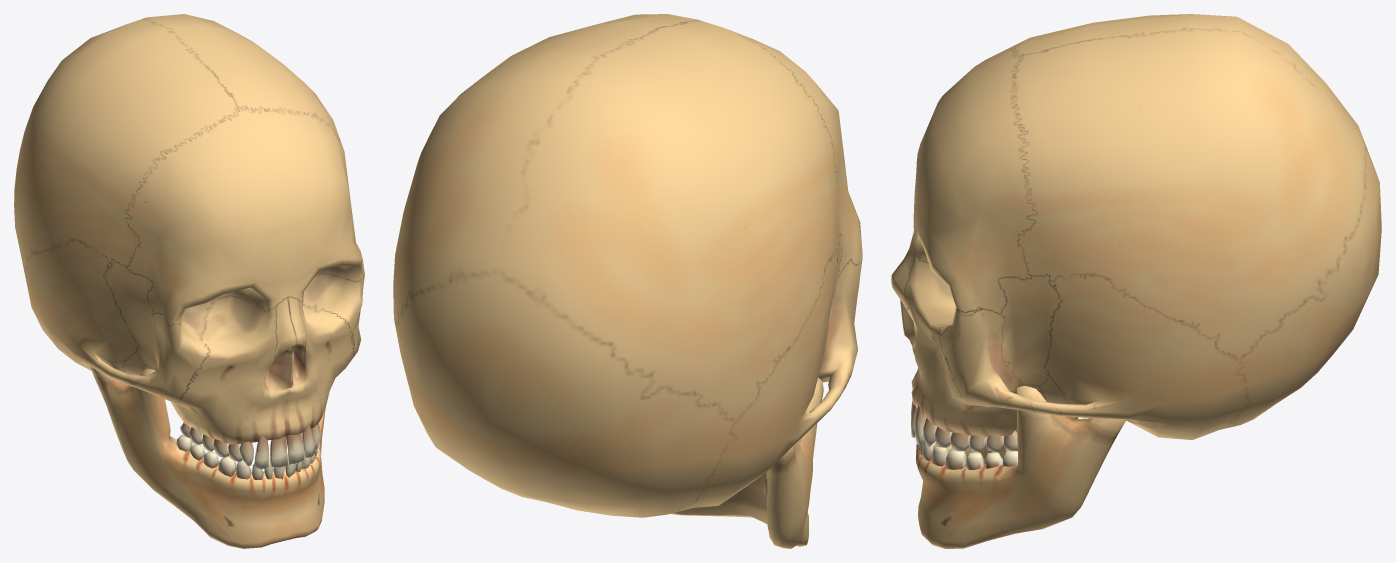
The model's file is skull-Low4K.fbx.
3 renders of one model, left to right at view 1: azimuth 30°, elevation 25°; view 2: azimuth 150°, elevation 25°; view 3: azimuth 270°, elevation 25°, orthographic. The views are drawn at different scales.
Visible parts, largest first — view 1: Skull; view 2: Skull; view 3: Skull.
Part boxes in pixels (left/top/right/bottom): Skull: left=14, top=14, right=364, bottom=548; Skull: left=393, top=14, right=862, bottom=548; Skull: left=891, top=14, right=1381, bottom=548.
Bounding box in the file's own units: 192 × 285 × 255.
